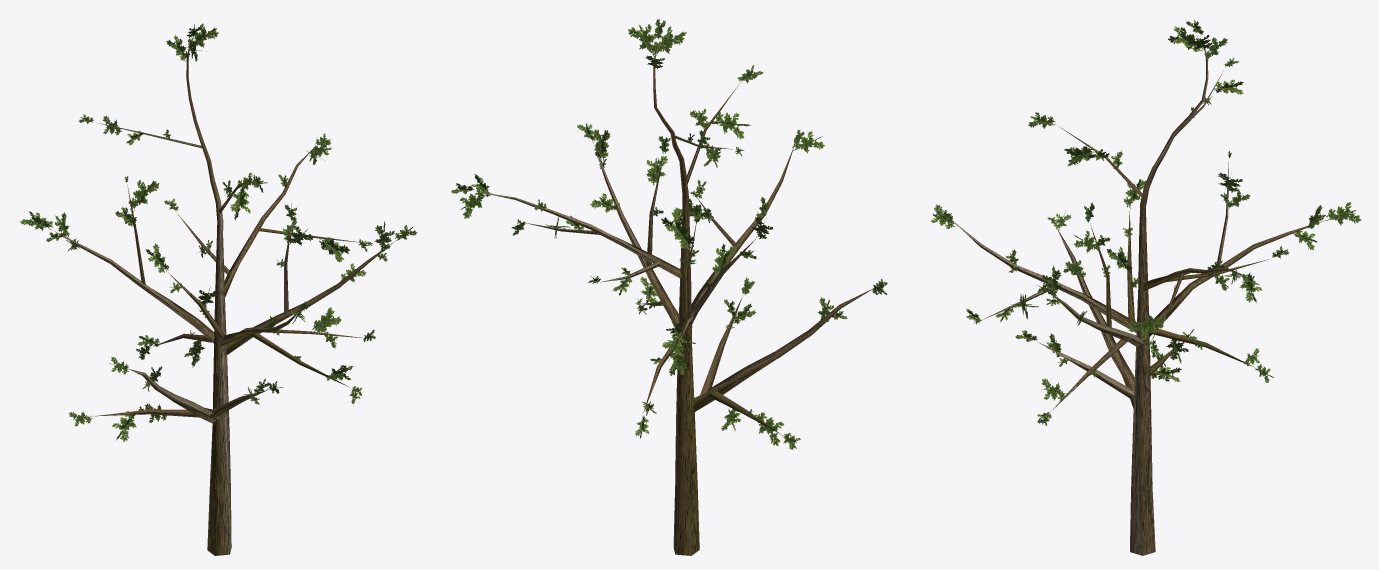
The model's file is oak-young.glb.
3 renders of one model, left to right at view 1: azimuth 30°, elevation 25°; view 2: azimuth 150°, elevation 25°; view 3: azimuth 270°, elevation 25°, orthographic. The views are drawn at different scales.
Parts seen in each view (by area): view 1: bark, needles; view 2: bark, needles; view 3: bark, needles.
Boxes of the visible parts, x1,y1,x2,y2 form: bark: [53, 40, 393, 555]; needles: [19, 23, 417, 441]; bark: [476, 42, 873, 555]; needles: [451, 19, 887, 449]; bark: [955, 37, 1324, 555]; needles: [931, 19, 1361, 425].
Bounding box in the file's own units: 4.55 × 7 × 5.25.
2 materials, 2 textured.
